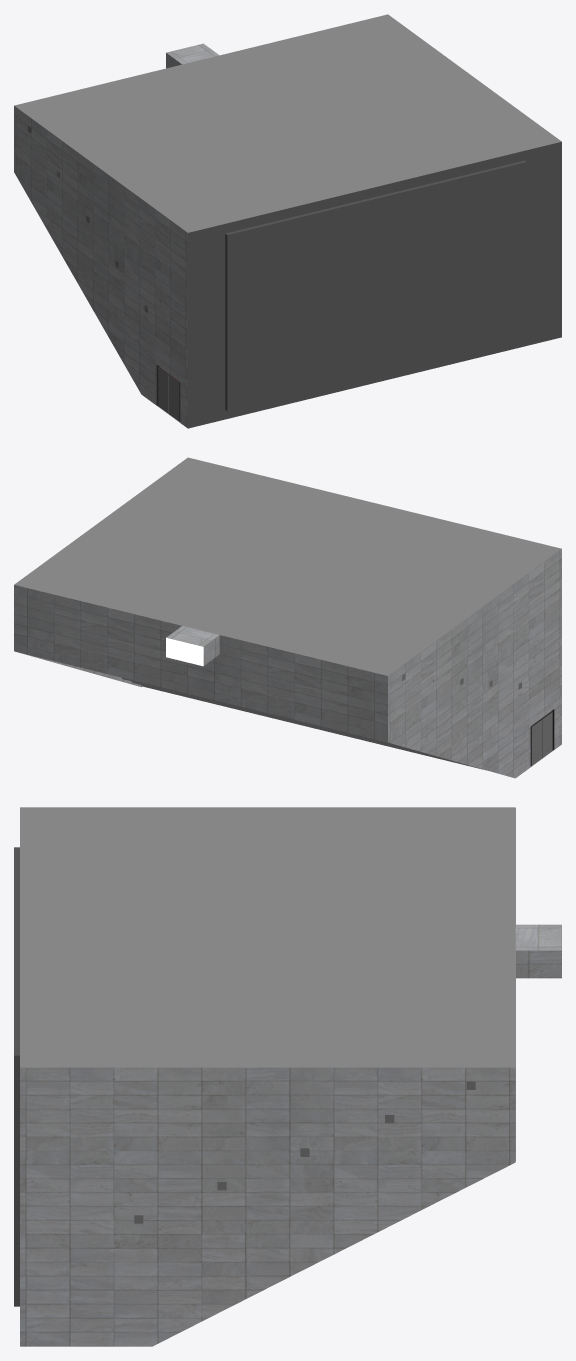
File: Cinema3D.gltf
3 views of the same model, one above another, from view 1: azimuth 30°, elevation 25°; view 2: azimuth 150°, elevation 25°; view 3: azimuth 270°, elevation 25° (orthographic). The views are drawn at different scales.
Visible parts, largest first — view 1: Theater_FrontWall, Theater_Ceiling, Theater_Wall, Door_Frame; view 2: Theater_Ceiling, Theater_Wall, Theater_Floor, Door_Frame, Theater_BackLight; view 3: Theater_Ceiling, Theater_Wall, Theater_FrontWall.
Part boxes in pixels (<box>): Theater_FrontWall: <box>188,141,561,428</box>; Theater_Ceiling: <box>14,14,561,232</box>; Theater_Wall: <box>14,43,219,428</box>; Door_Frame: <box>156,365,180,422</box>; Theater_Ceiling: <box>14,457,561,675</box>; Theater_Wall: <box>14,549,561,778</box>; Theater_Floor: <box>122,677,553,769</box>; Door_Frame: <box>530,709,554,766</box>; Theater_BackLight: <box>166,637,203,666</box>; Theater_Ceiling: <box>20,807,515,1067</box>; Theater_Wall: <box>20,924,561,1346</box>; Theater_FrontWall: <box>14,847,19,1306</box>.
Size of the model in its own units: 20 by 10 by 17.8.
11 materials, 3 textured.
